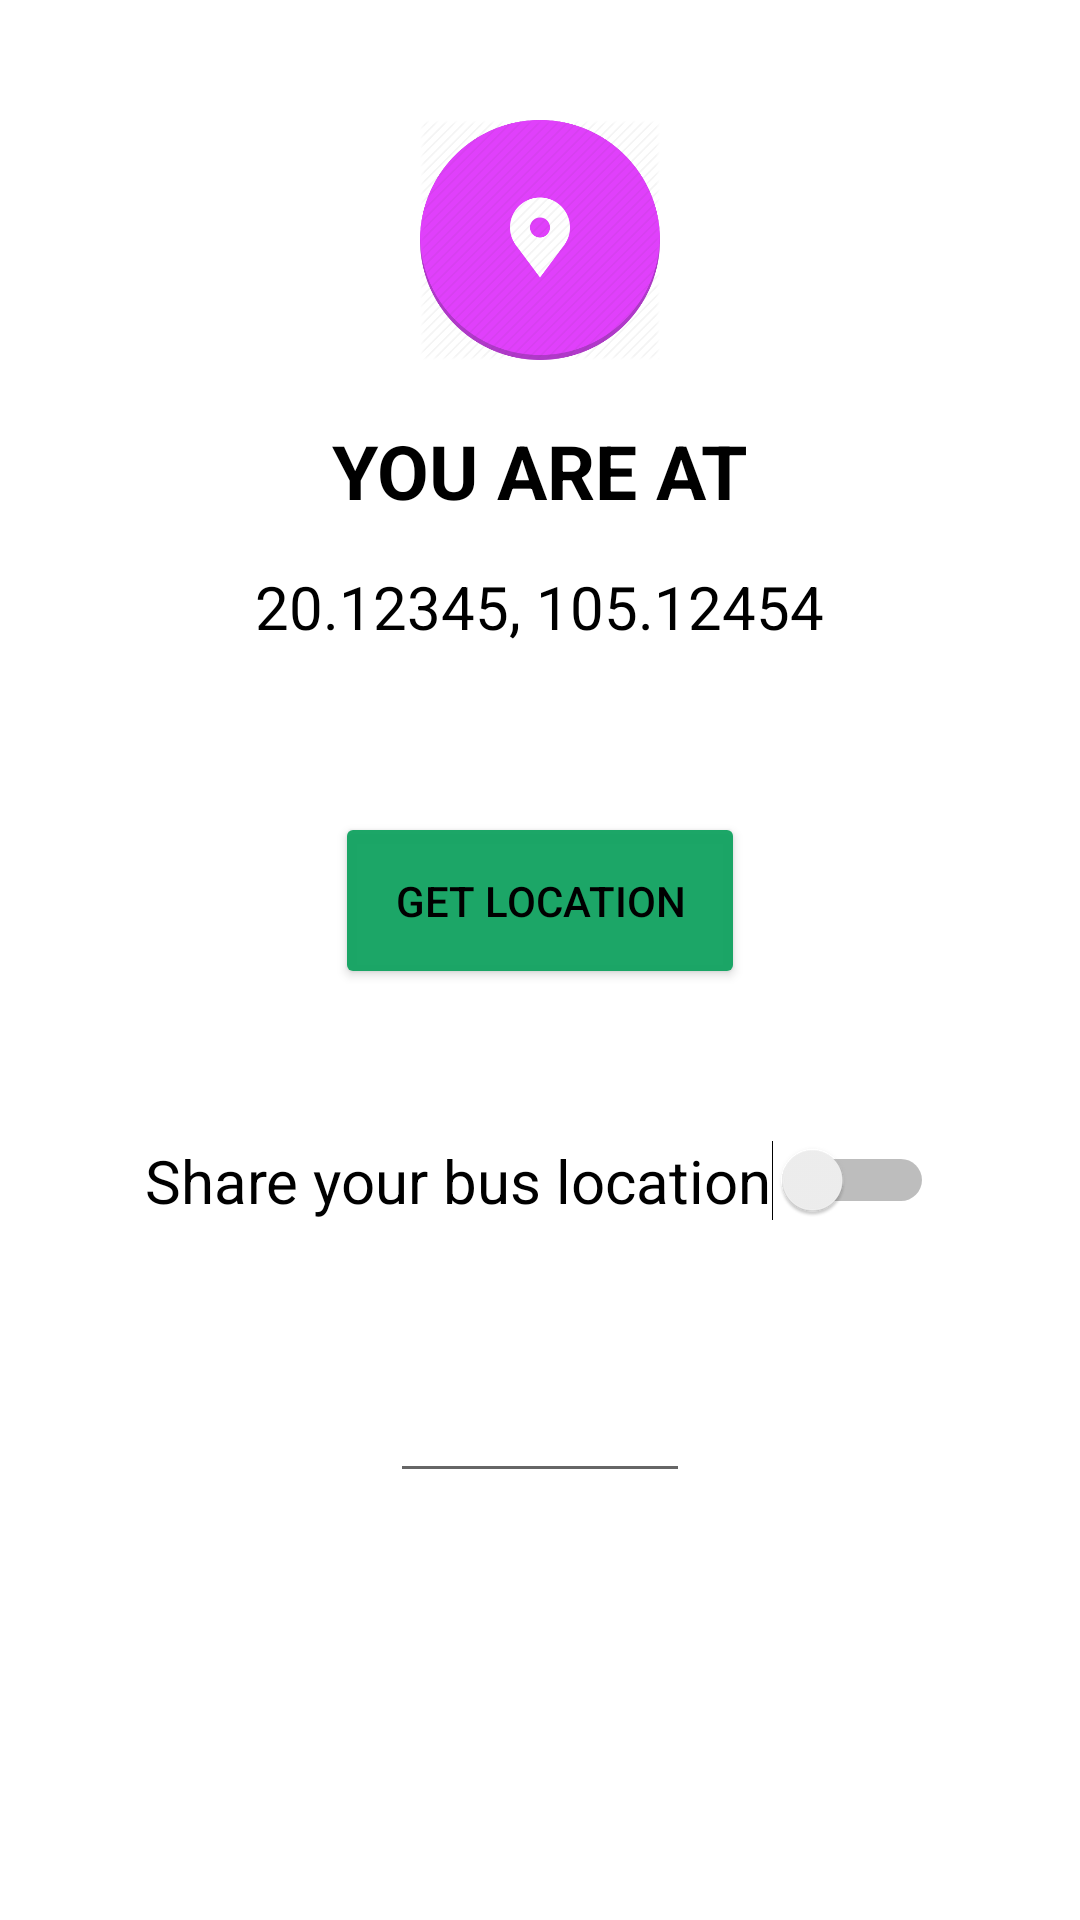

Icon bounding boxes for this 1080x1920 phone screenshot, format {"x1": x1, "y1": y1, "x2": x2, "y2": y2}:
marker: {"x1": 420, "y1": 120, "x2": 660, "y2": 360}
